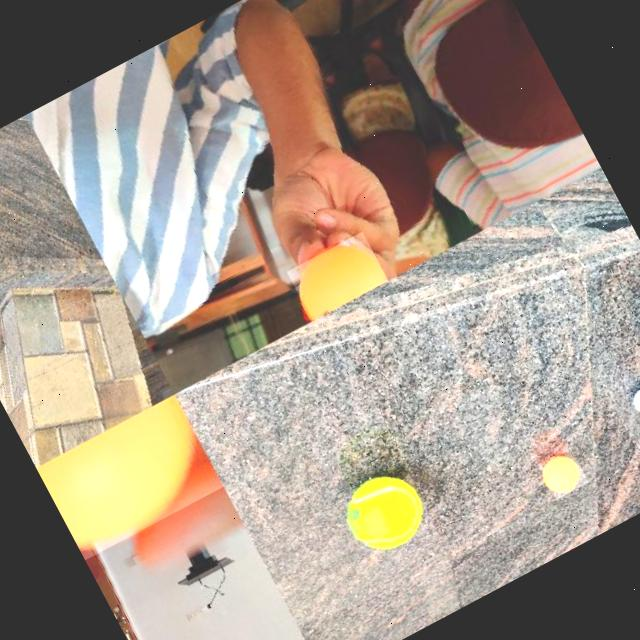ping-pong-ball: (36, 394, 224, 560), (284, 229, 388, 322), (536, 446, 588, 499)
